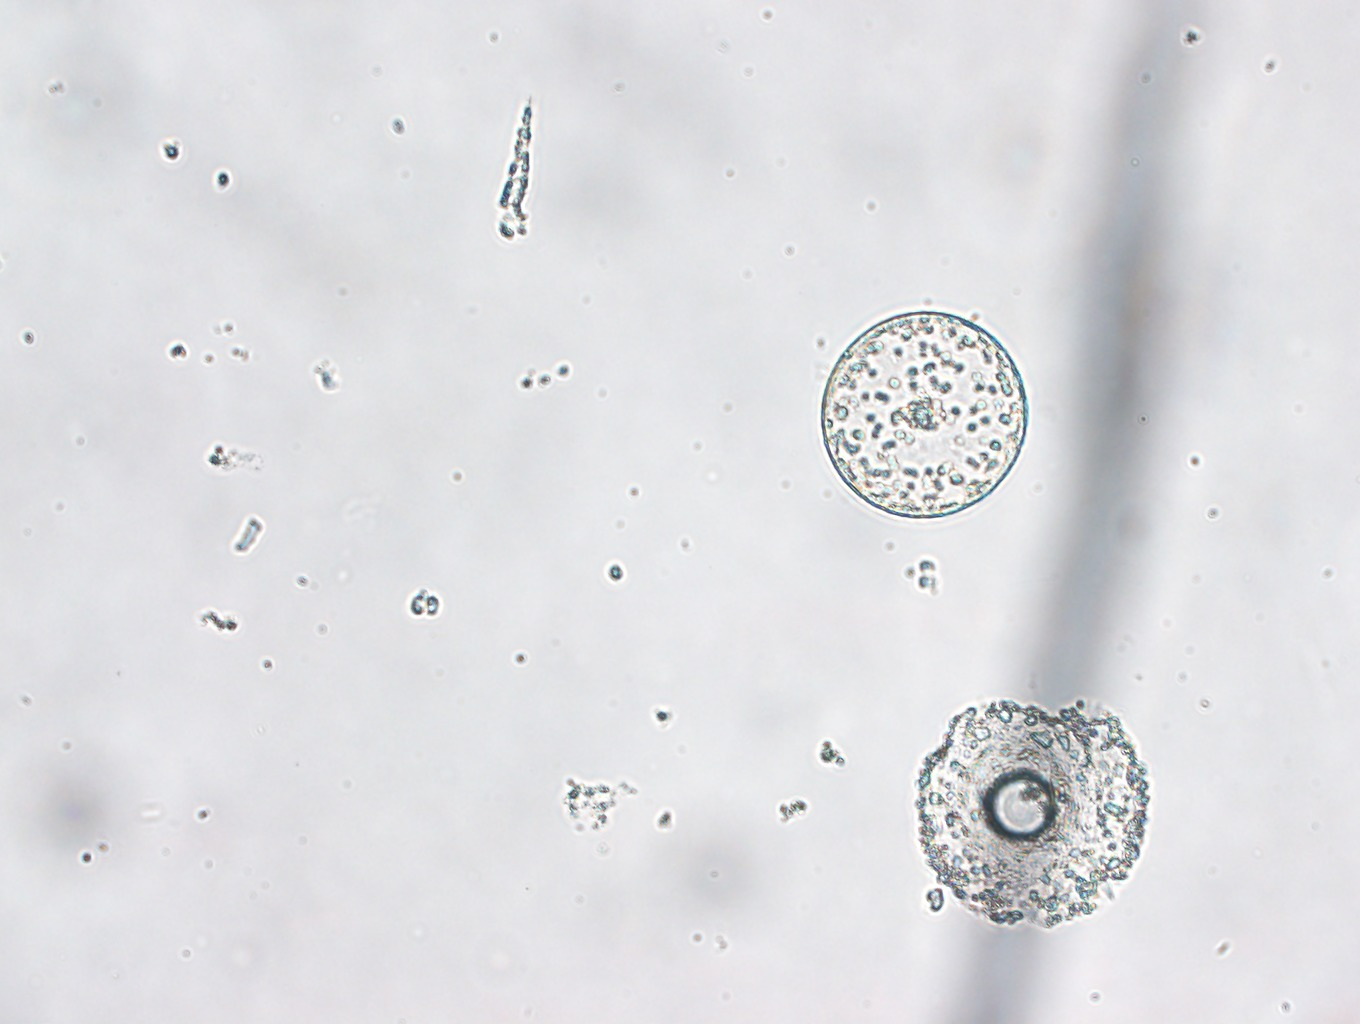coscinodiscus: (820, 308, 1028, 520)
